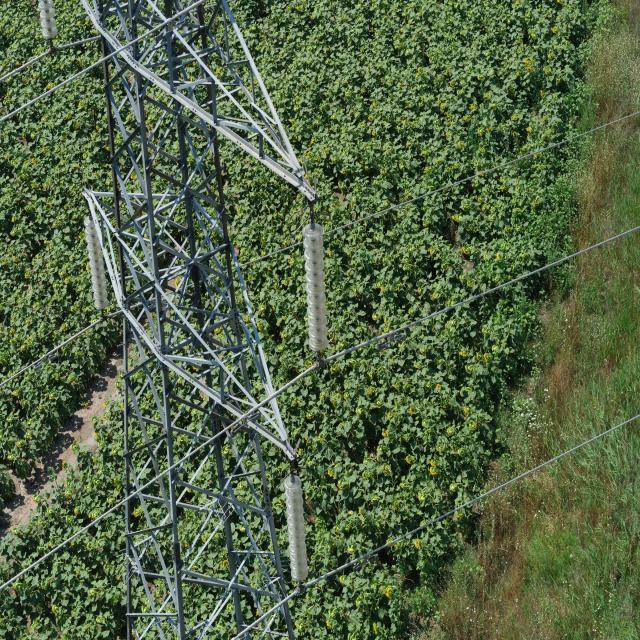direk: (75, 8, 312, 640)
